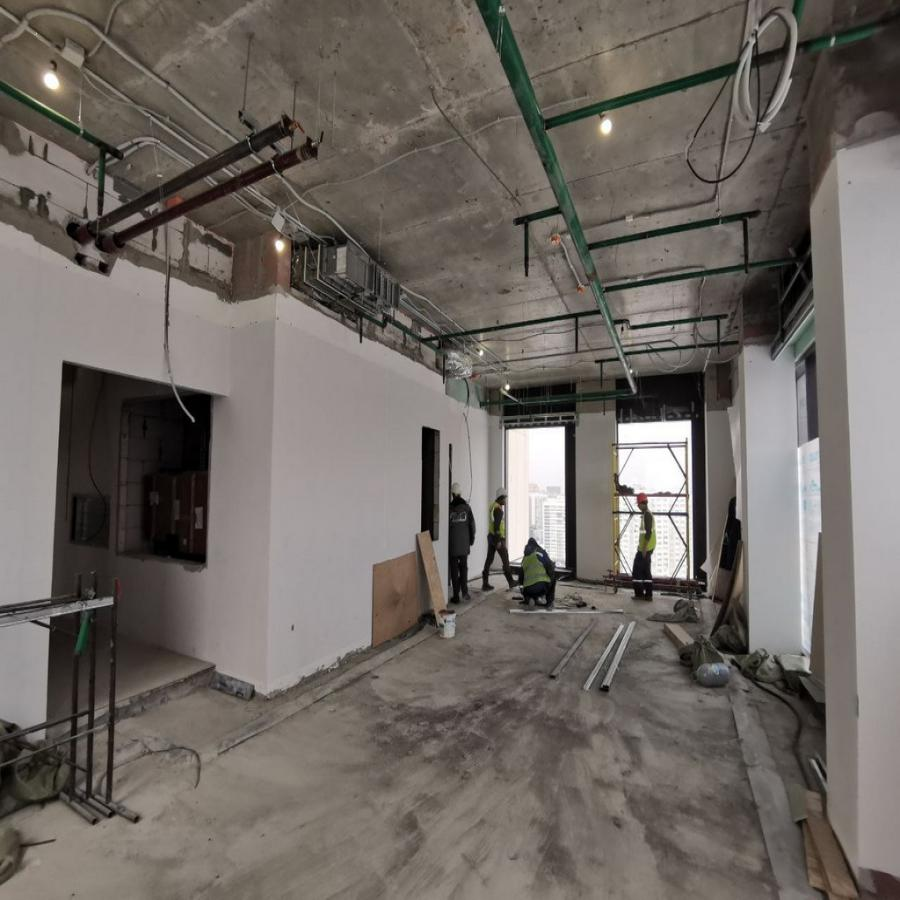Helmet: (636, 493, 650, 512), (496, 489, 510, 505), (452, 483, 464, 501)
